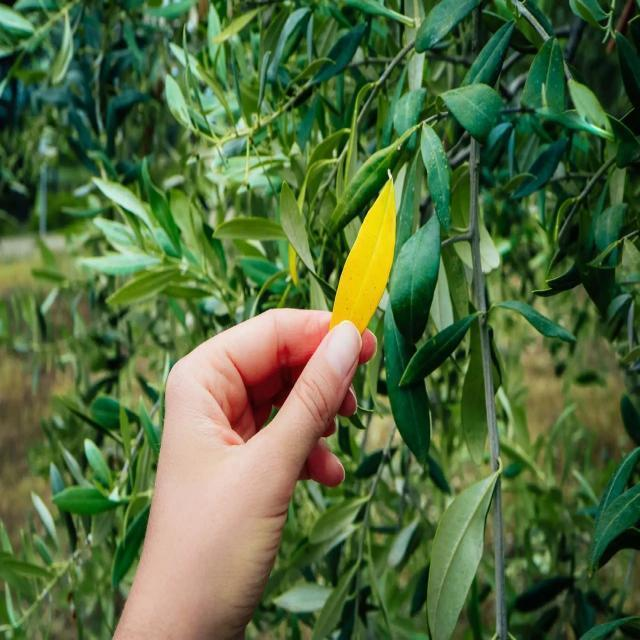OlivePeacockSpot: (331, 170, 396, 334)
